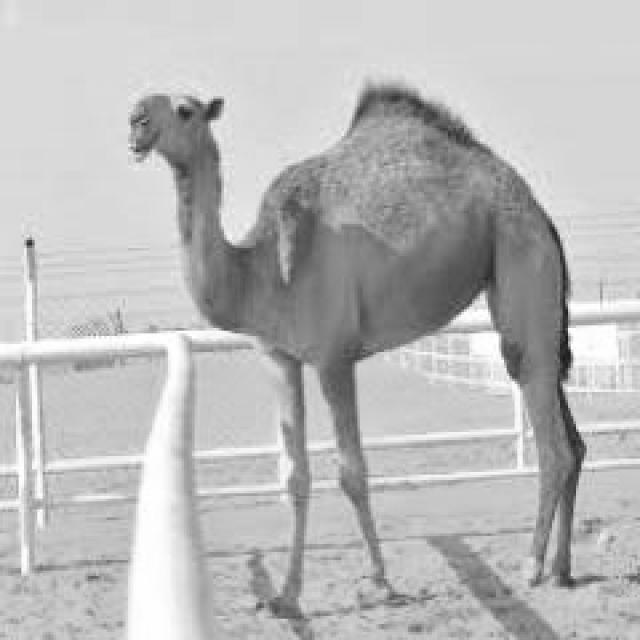Camel: (125, 80, 587, 619)
